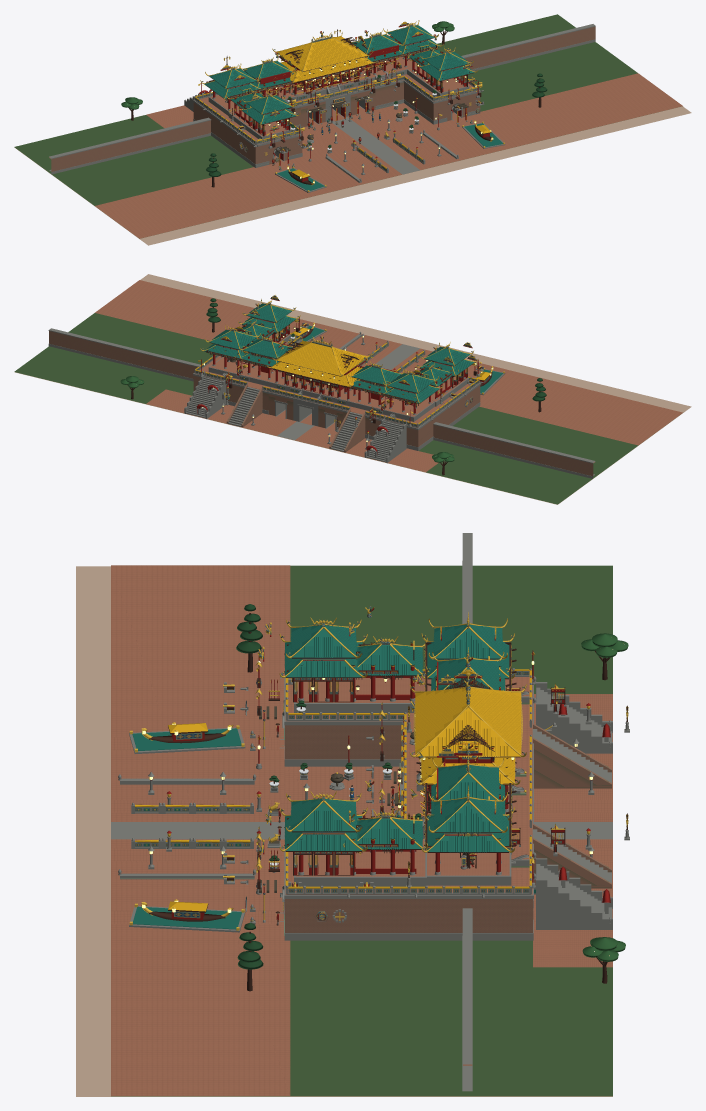
The model's file is T02_ngo_mon_lau_ngu_phung.glb.
The picture shows the model from 3 angles, top to bottom: view 1: azimuth 30°, elevation 25°; view 2: azimuth 150°, elevation 25°; view 3: azimuth 270°, elevation 25°; orthographic projection. The views are drawn at different scales.
Parts seen in each view (by area): view 1: T02_Courtyard_And_Hoang_Thanh_Wall, T02_Nen_Dai_Chu_U_5_Cua, T02_Lau_Ngu_Phung_Superstructure, T02_V2_Satellite_Seamless_Base, T02_v02_Hero_Architectural_Details, V05_TASK10_BeThuyDinh_KimThuy_Ta_East, V05_TASK10_BeThuyDinh_KimThuy_Huu_West; view 2: T02_Courtyard_And_Hoang_Thanh_Wall, T02_Lau_Ngu_Phung_Superstructure, T02_Nen_Dai_Chu_U_5_Cua, T02_V2_Satellite_Seamless_Base, T02_v02_Hero_Architectural_Details; view 3: T02_Courtyard_And_Hoang_Thanh_Wall, T02_Nen_Dai_Chu_U_5_Cua, T02_Lau_Ngu_Phung_Superstructure, T02_V2_Satellite_Seamless_Base, T02_v02_Hero_Architectural_Details, V05_TASK10_BeThuyDinh_KimThuy_Ta_East, V05_TASK10_BeThuyDinh_KimThuy_Huu_West, V05_TASK10_P12_ThuyenRong_Ta_East, V05_TASK10_P12_ThuyenRong_Huu_West, CayTungBach_v02_02, CayDaiSu_v02_01, CayDaiSu_v02_04 (+1 smaller).
Boxes of the visible parts, bbox=[...] form: T02_Courtyard_And_Hoang_Thanh_Wall: bbox=[14, 14, 682, 238]; T02_Nen_Dai_Chu_U_5_Cua: bbox=[193, 74, 480, 167]; T02_Lau_Ngu_Phung_Superstructure: bbox=[204, 24, 474, 139]; T02_V2_Satellite_Seamless_Base: bbox=[14, 106, 691, 245]; T02_v02_Hero_Architectural_Details: bbox=[184, 45, 473, 182]; V05_TASK10_BeThuyDinh_KimThuy_Ta_East: bbox=[462, 121, 505, 148]; V05_TASK10_BeThuyDinh_KimThuy_Huu_West: bbox=[275, 166, 326, 192]; T02_Courtyard_And_Hoang_Thanh_Wall: bbox=[14, 280, 682, 504]; T02_Lau_Ngu_Phung_Superstructure: bbox=[204, 303, 474, 421]; T02_Nen_Dai_Chu_U_5_Cua: bbox=[193, 339, 480, 452]; T02_V2_Satellite_Seamless_Base: bbox=[14, 274, 691, 504]; T02_v02_Hero_Architectural_Details: bbox=[184, 331, 468, 463]; T02_Courtyard_And_Hoang_Thanh_Wall: bbox=[111, 533, 612, 1096]; T02_Nen_Dai_Chu_U_5_Cua: bbox=[284, 676, 611, 940]; T02_Lau_Ngu_Phung_Superstructure: bbox=[284, 621, 521, 886]; T02_V2_Satellite_Seamless_Base: bbox=[76, 566, 612, 1096]; T02_v02_Hero_Architectural_Details: bbox=[118, 662, 612, 935]; V05_TASK10_BeThuyDinh_KimThuy_Ta_East: bbox=[129, 903, 245, 932]; V05_TASK10_BeThuyDinh_KimThuy_Huu_West: bbox=[129, 725, 245, 753]; V05_TASK10_P12_ThuyenRong_Ta_East: bbox=[141, 899, 233, 921]; V05_TASK10_P12_ThuyenRong_Huu_West: bbox=[141, 722, 233, 743]; CayTungBach_v02_02: bbox=[236, 604, 262, 672]; CayDaiSu_v02_01: bbox=[581, 633, 628, 680]; CayDaiSu_v02_04: bbox=[582, 937, 625, 983].
Size of the model in its own units: 140 by 18.63 by 61.72.
Materials: 18 (3 with a texture image).
